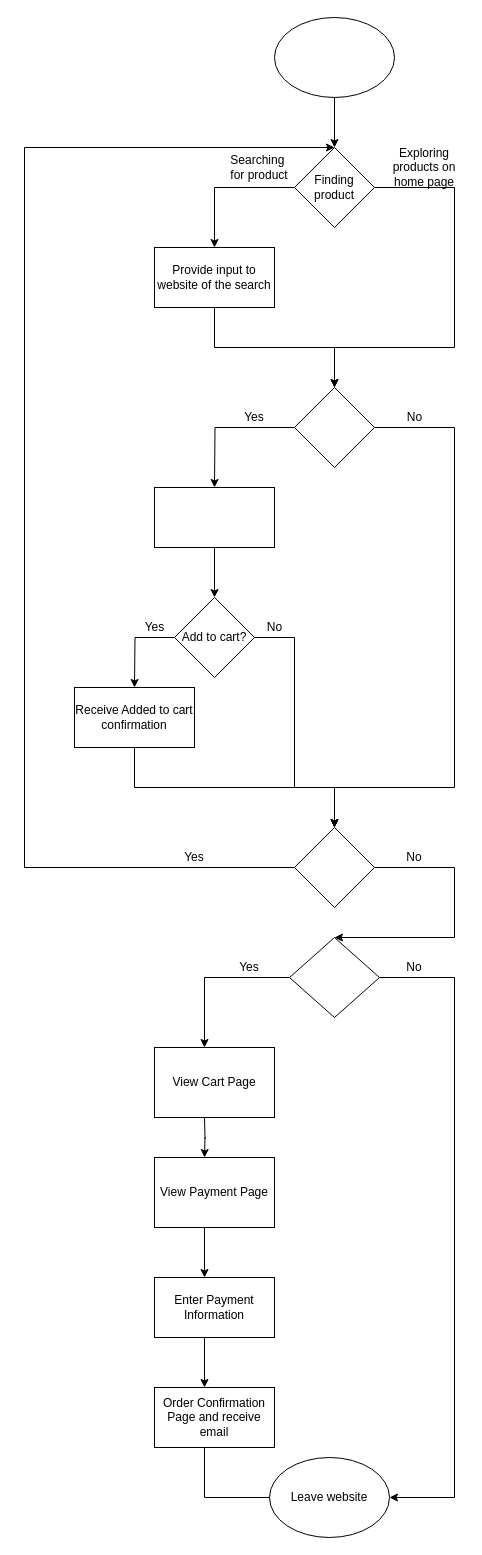
Some shapes in this 482 by 1555 pixel diagram are drawn without their labels. Each missing label, with the centre of its shape:
"Checkout?" goes at pixel 334 977.
"Continue shopping?" goes at pixel 334 867.
"The product's webpage will open" goes at pixel 214 517.
"User Enters Website" goes at pixel 334 57.
"View a specific product?" goes at pixel 334 427.
